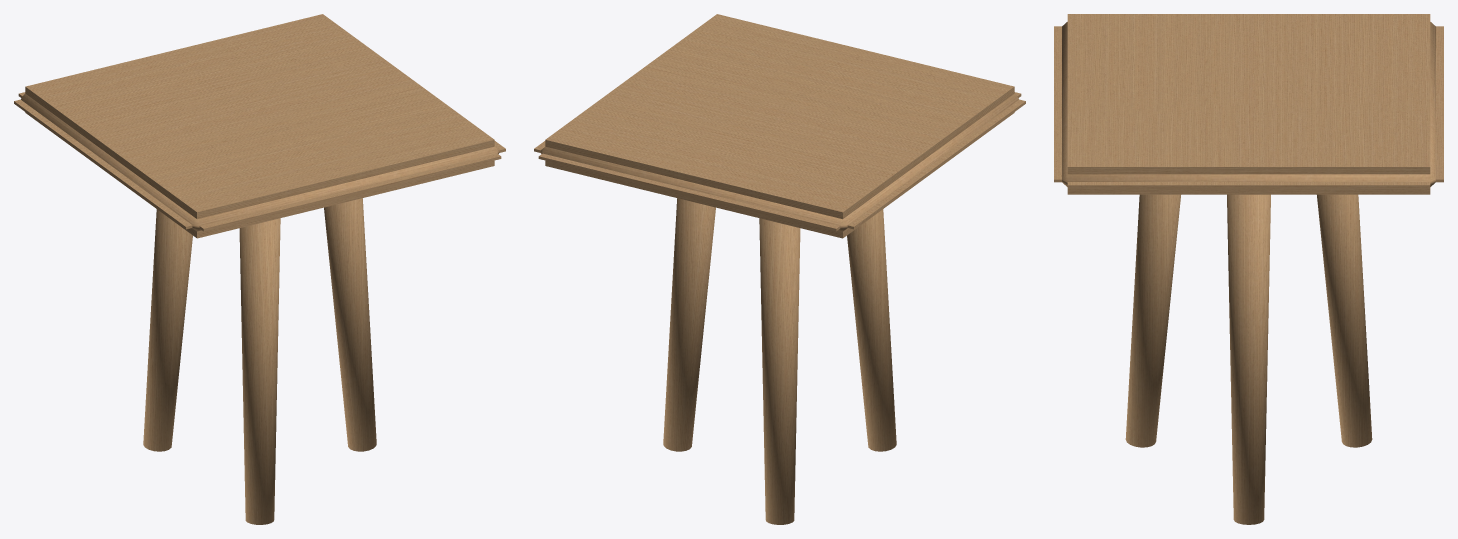
The model's file is scandinavian.side_table.gltf.
3 renders of one model, left to right at view 1: azimuth 30°, elevation 25°; view 2: azimuth 150°, elevation 25°; view 3: azimuth 270°, elevation 25°, orthographic. The views are drawn at different scales.
Parts seen in each view (by area): view 1: scandinavian.side_table.rounded-top; view 2: scandinavian.side_table.rounded-top; view 3: scandinavian.side_table.rounded-top.
Boxes of the visible parts, x1,y1,x2,y2 form: scandinavian.side_table.rounded-top: (14, 14, 505, 524); scandinavian.side_table.rounded-top: (534, 14, 1025, 524); scandinavian.side_table.rounded-top: (1054, 14, 1443, 524).
Size of the model in its own units: 0.46 by 0.4915 by 0.46.
Materials: 1 (1 with a texture image).
